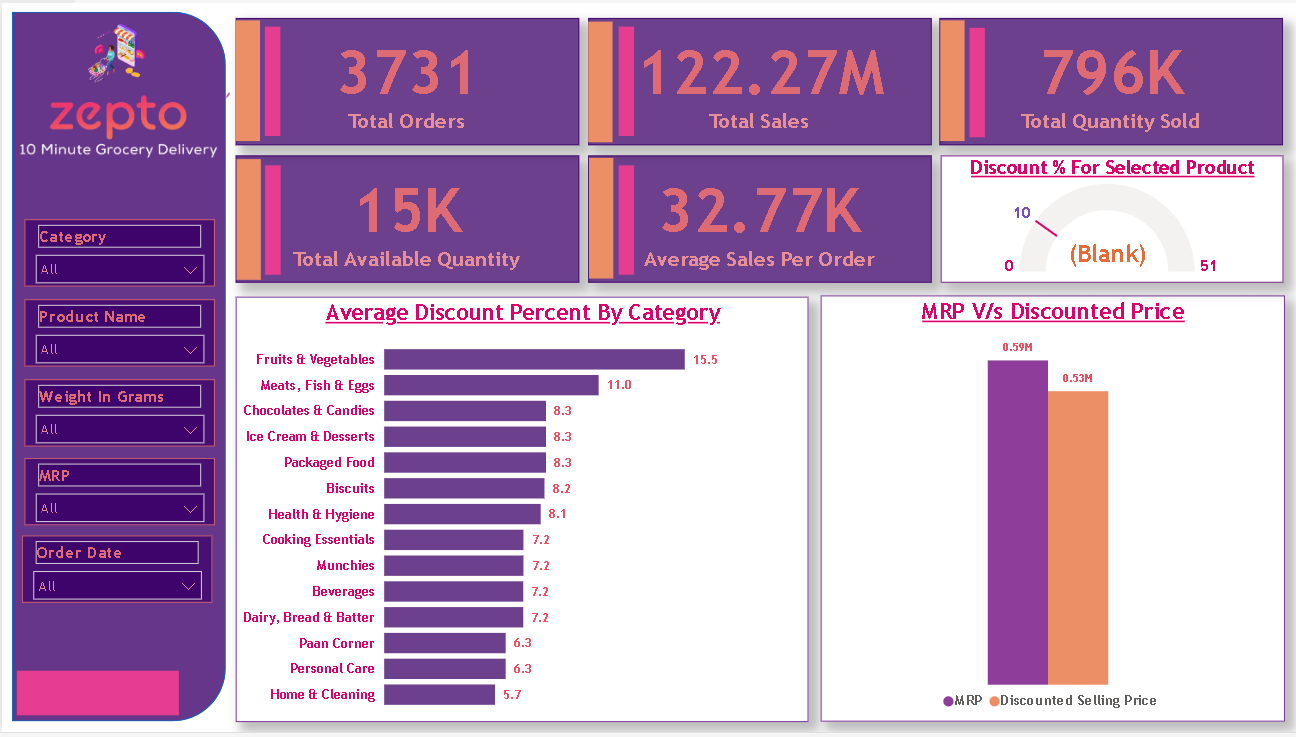

What the dashboard file says about the page in this screenshot:
{"tool":"powerbi","page":{"name":"Overview","canvas":[1280,720],"ordinal":0},"visuals":[{"type":"textbox","box":[7.8,0,280,280],"z":0},{"type":"shape","box":[9.7,8.4,211.1,700.9],"z":1000},{"type":"card","title":"Total Orders","fields":{"Values":["zepto dataset.total orders"]},"box":[230.4,14.5,339,125.5],"z":2000},{"type":"card","title":"Total Orders","fields":{"Values":["Sum(zepto dataset.Total Sales)"]},"box":[579.1,14.5,339,125.5],"z":3000},{"type":"card","title":"Total Orders","fields":{"Values":["Sum(zepto dataset.quantity)"]},"box":[926.5,14.5,339,125.5],"z":4000},{"type":"slicer","fields":{"Values":["zepto dataset.Category"]},"box":[21.7,213.5,188.2,66.4],"z":5000},{"type":"slicer","fields":{"Values":["zepto dataset.name"]},"box":[21.7,293.2,188.2,66.4],"z":6000},{"type":"slicer","fields":{"Values":["zepto dataset.weightInGms"]},"box":[21.7,371.6,188.2,66.4],"z":7000},{"type":"slicer","fields":{"Values":["zepto dataset.mrp"]},"box":[21.7,450,188.2,66.4],"z":8000},{"type":"card","title":"Total Orders","fields":{"Values":["Avg(zepto dataset.Total Sales)"]},"box":[579.1,150.8,339,125.5],"z":9000},{"type":"card","title":"Total Orders","fields":{"Values":["Sum(zepto dataset.availableQuantity)"]},"box":[230.4,150.8,339,125.5],"z":10000},{"type":"barChart","title":"Average Discount Percent By Category","fields":{"Category":["zepto dataset.Category"],"Y":["Measures Table.Avg Discount Percent"]},"box":[230.5,289.5,565.4,419.9],"z":11000},{"type":"clusteredColumnChart","title":"MRP V/s Discounted Price","fields":{"Y":["Sum(zepto dataset.mrp)","Sum(zepto dataset.discountedSellingPrice)"]},"box":[808.2,289.2,458.2,421.1],"z":12000},{"type":"gauge","title":"Discount  % For Selected Product","fields":{"Y":["Measures Table.Discount Percent value"]},"box":[927.2,150.6,338.3,125.9],"z":13000},{"type":"image","box":[0,50,230,151.2],"z":14000},{"type":"image","box":[227.8,13.7,34.3,129],"z":15000},{"type":"image","box":[575,13.7,34.3,129],"z":16000},{"type":"image","box":[918,12.3,43.9,129],"z":17000},{"type":"image","box":[220.9,148.2,48,129],"z":18000},{"type":"image","box":[573.6,146.8,35.7,129],"z":19000},{"type":"image","box":[251.1,19.2,32.9,116.6],"z":20000},{"type":"image","box":[601,20.6,30.2,116.6],"z":21000},{"type":"image","box":[945.5,19.2,32.9,118],"z":22000},{"type":"image","box":[251.1,155.1,34.3,118],"z":23000},{"type":"image","box":[602.4,153.7,26.1,118],"z":24000},{"type":"image","box":[10,652.5,170,57.5],"z":25000},{"type":"image","box":[13.8,15,201.2,70],"z":26000},{"type":"slicer","fields":{"Values":["zepto dataset.order date"]},"box":[19.3,526,188.2,66.4],"z":27000}]}

Visuals, with their boxes in screenshot pixels (x1, y1, x2, y2), scaled from the page's 1280x720 canvas onto the 1296x737 screenshot:
textbox: (left=8, top=0, right=291, bottom=287)
shape: (left=10, top=9, right=224, bottom=726)
"Total Orders" card: (left=233, top=15, right=577, bottom=143)
"Total Orders" card: (left=586, top=15, right=930, bottom=143)
"Total Orders" card: (left=938, top=15, right=1281, bottom=143)
slicer - zepto dataset.Category: (left=22, top=219, right=213, bottom=287)
slicer - zepto dataset.name: (left=22, top=300, right=213, bottom=368)
slicer - zepto dataset.weightInGms: (left=22, top=380, right=213, bottom=448)
slicer - zepto dataset.mrp: (left=22, top=461, right=213, bottom=529)
"Total Orders" card: (left=586, top=154, right=930, bottom=283)
"Total Orders" card: (left=233, top=154, right=577, bottom=283)
"Average Discount Percent By Category" barChart: (left=233, top=296, right=806, bottom=726)
"MRP V/s Discounted Price" clusteredColumnChart: (left=818, top=296, right=1282, bottom=727)
"Discount  % For Selected Product" gauge: (left=939, top=154, right=1281, bottom=283)
image: (left=0, top=51, right=233, bottom=206)
image: (left=231, top=14, right=265, bottom=146)
image: (left=582, top=14, right=617, bottom=146)
image: (left=929, top=13, right=974, bottom=145)
image: (left=224, top=152, right=272, bottom=284)
image: (left=581, top=150, right=617, bottom=282)
image: (left=254, top=20, right=288, bottom=139)
image: (left=609, top=21, right=639, bottom=140)
image: (left=957, top=20, right=991, bottom=140)
image: (left=254, top=159, right=289, bottom=280)
image: (left=610, top=157, right=636, bottom=278)
image: (left=10, top=668, right=182, bottom=727)
image: (left=14, top=15, right=218, bottom=87)
slicer - zepto dataset.order date: (left=20, top=538, right=210, bottom=606)
